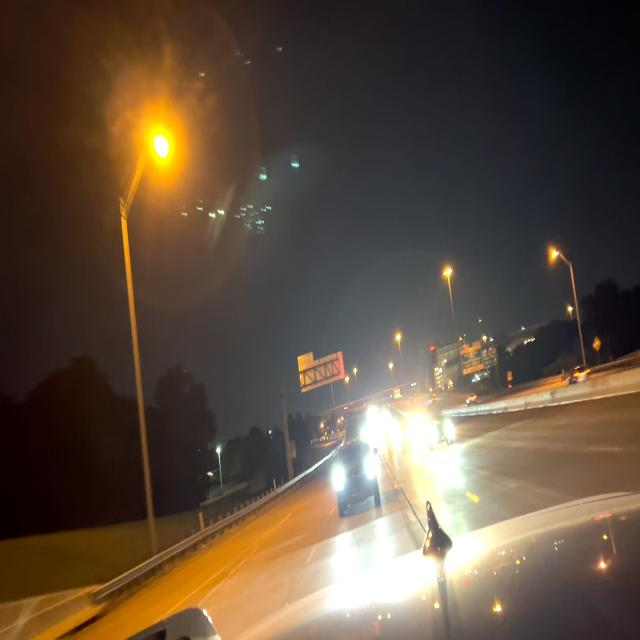back-of-sign: (297, 354, 340, 397)
